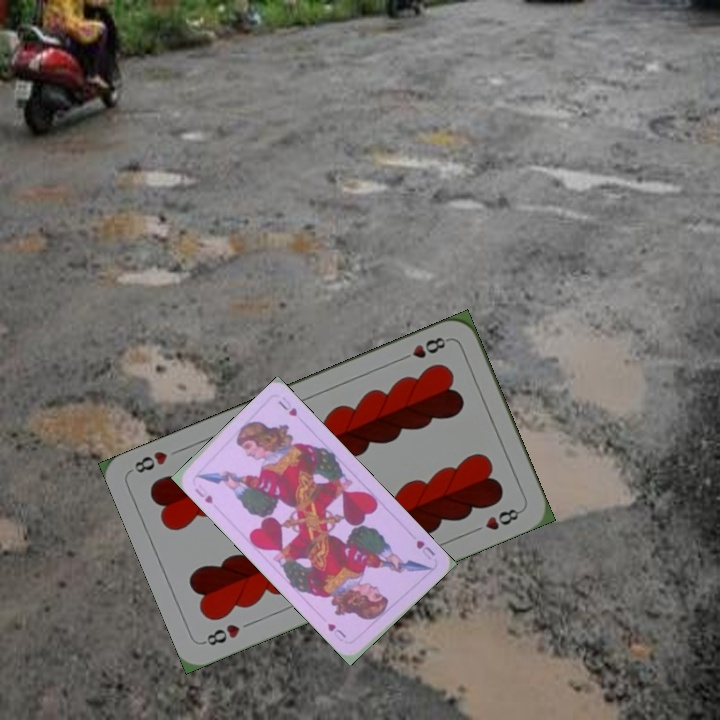H8: (396, 333, 452, 364), (199, 620, 243, 649)
HU: (412, 536, 437, 562), (190, 481, 215, 506)
